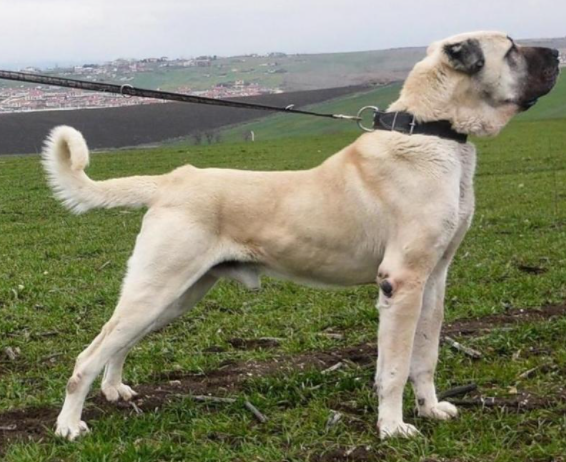dog: (37, 32, 561, 442)
